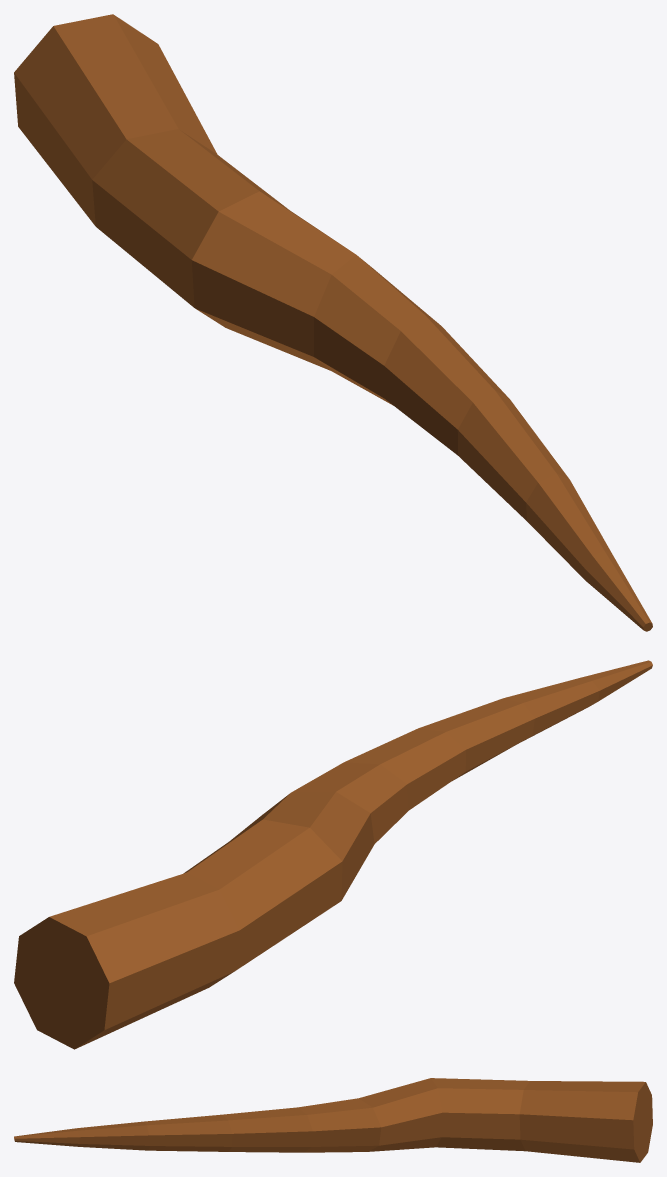
Rendered from branch.fbx.
3 views of the same model, one above another, from view 1: azimuth 30°, elevation 25°; view 2: azimuth 150°, elevation 25°; view 3: azimuth 270°, elevation 25° (orthographic). The views are drawn at different scales.
Visible parts, largest first — view 1: branch; view 2: branch; view 3: branch.
Boxes of the visible parts, x1=… form: branch: x1=14, y1=14, x2=652, y2=631; branch: x1=14, y1=660, x2=652, y2=1049; branch: x1=14, y1=1078, x2=652, y2=1162.
Size of the model in its own units: 0.2861 by 0.2171 by 1.76.
